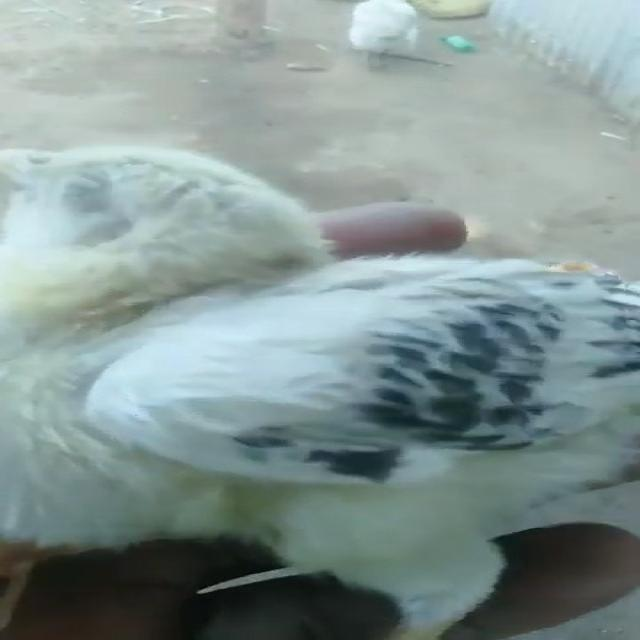newcastle: (0, 122, 640, 636)
